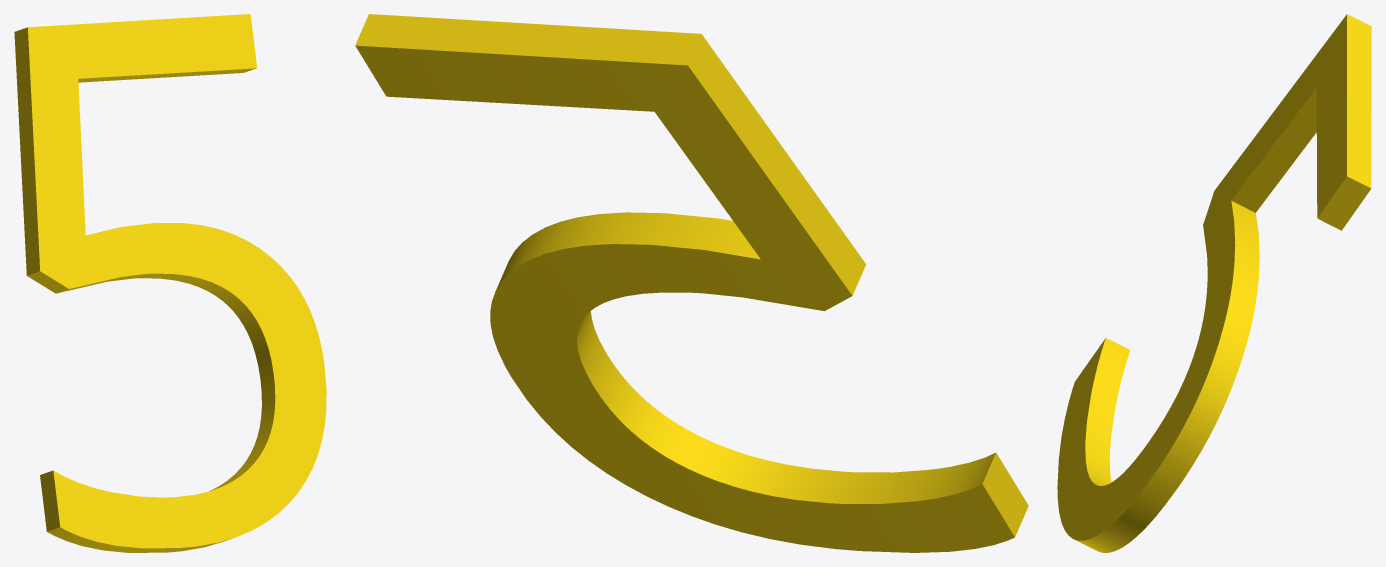
The model's file is Number_5.gltf.
The picture shows the model from 3 angles, left to right: view 1: azimuth 30°, elevation 25°; view 2: azimuth 150°, elevation 25°; view 3: azimuth 270°, elevation 25°; orthographic projection. The views are drawn at different scales.
Parts seen in each view (by area): view 1: Sub_3_Cell_1_3_Number_5; view 2: Sub_3_Cell_1_3_Number_5; view 3: Sub_3_Cell_1_3_Number_5.
Boxes of the visible parts, <box> form: Sub_3_Cell_1_3_Number_5: <box>14,14,326,552</box>; Sub_3_Cell_1_3_Number_5: <box>355,14,1028,552</box>; Sub_3_Cell_1_3_Number_5: <box>1057,14,1371,552</box>.
Bounding box in the file's own units: 0.0176 × 0.0235 × 0.0139.
